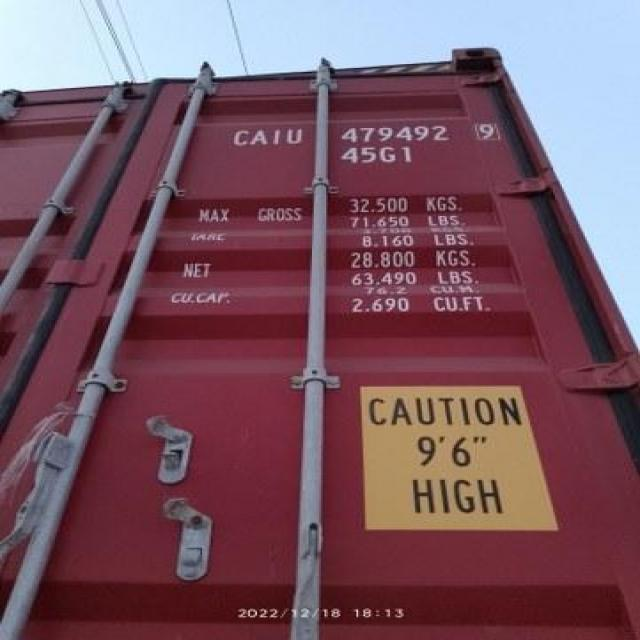ISO: (342, 146, 414, 166)
container_number: (222, 121, 498, 153), (372, 396, 522, 429)
